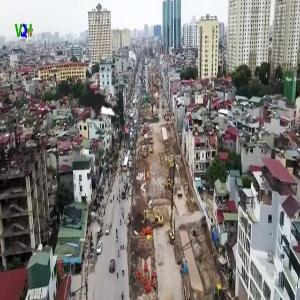drone: (36, 55, 141, 160)
